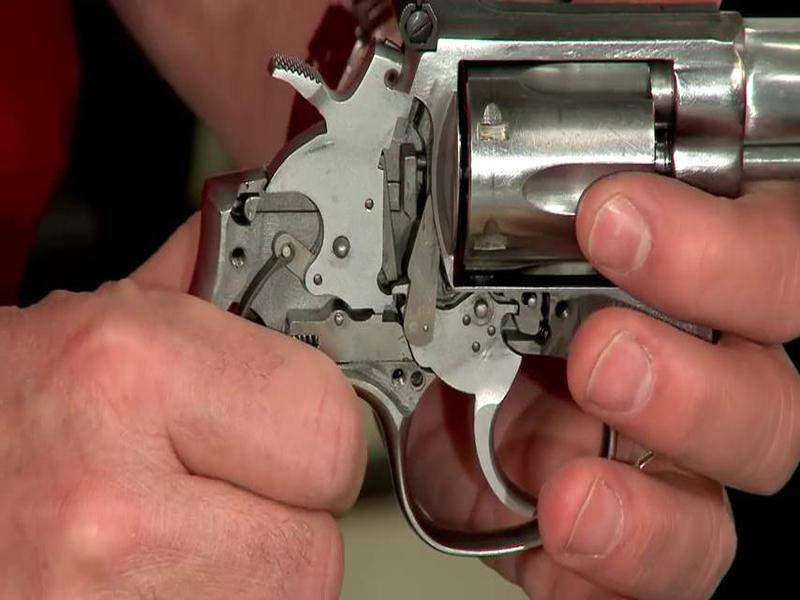Revolver: (111, 26, 800, 535)
